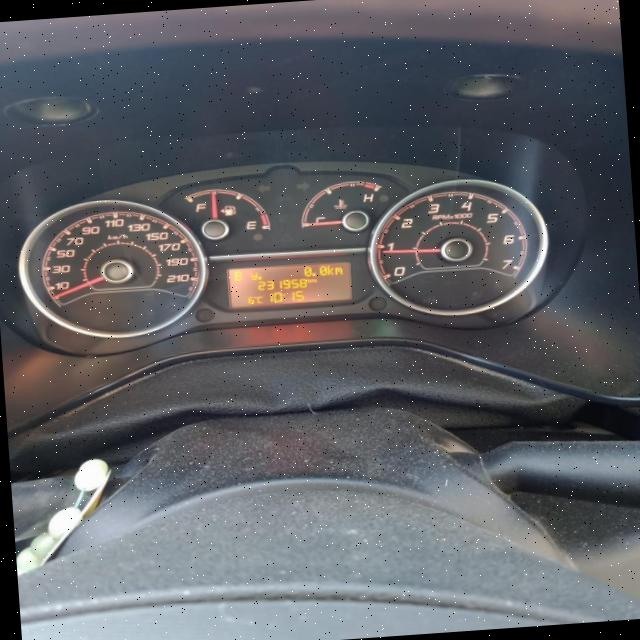odometer: (224, 259, 356, 310)
